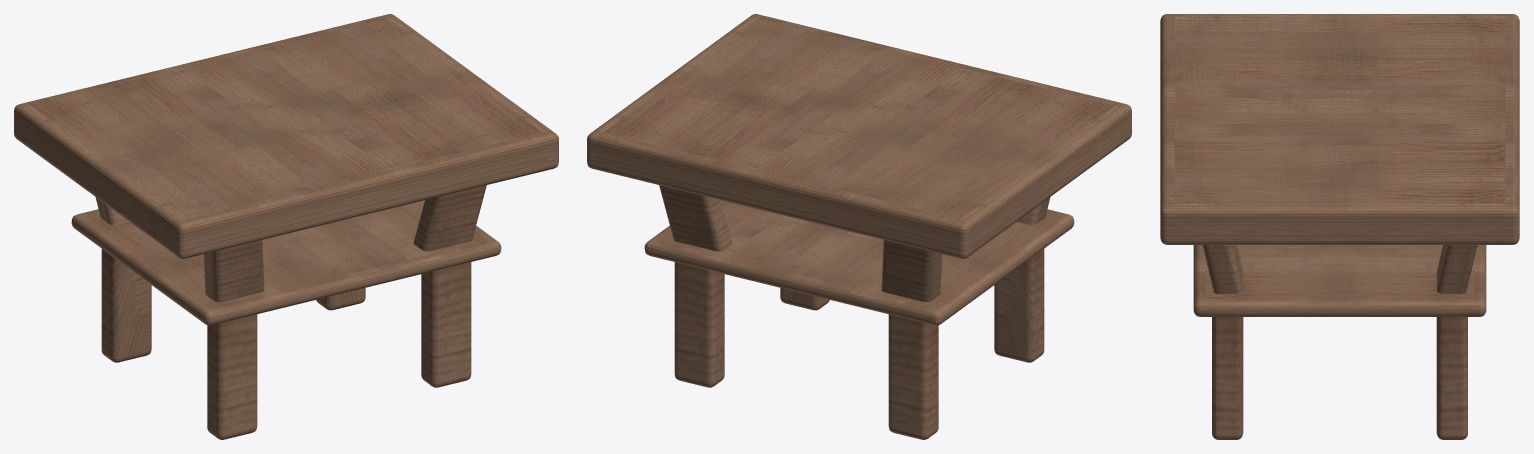
Rendered from MesaVentilador.glb.
The picture shows the model from 3 angles, left to right: view 1: azimuth 30°, elevation 25°; view 2: azimuth 150°, elevation 25°; view 3: azimuth 270°, elevation 25°; orthographic projection. The views are drawn at different scales.
Parts seen in each view (by area): view 1: Cube.003; view 2: Cube.003; view 3: Cube.003.
Boxes of the visible parts, left/top/right/bottom form: Cube.003: left=14, top=14, right=558, bottom=439; Cube.003: left=587, top=14, right=1131, bottom=439; Cube.003: left=1160, top=14, right=1519, bottom=439.
Size of the model in its own units: 1.03 by 0.6416 by 0.7868.
Materials: 1 (1 with a texture image).
